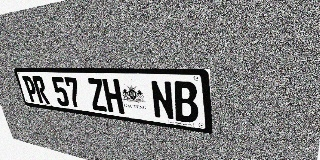5: (51, 77, 70, 107)
7: (63, 77, 84, 109)
B: (172, 81, 199, 124)
H: (102, 79, 124, 114)
N: (150, 80, 175, 121)
P: (22, 76, 40, 103)
R: (32, 76, 50, 104)
Z: (86, 78, 108, 112)
